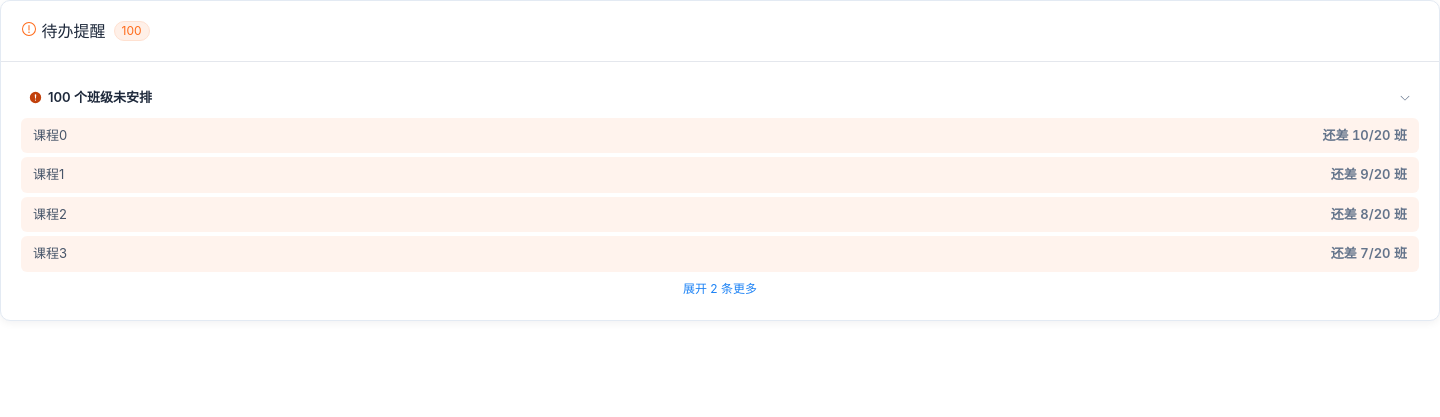
it: AlertCard (首页待办提醒卡) › 明细 ＞4 条时显示前 4 条和展开按钮，点击后显示剩余项并可收起
The image size is (1440, 417).
Expected: the text "课程4" is not shown
Expected: the text "课程5" is not shown
Note: 点击展开后显示全部
Click the button with class "alert-toggle" at (720, 288), box [683,280,757,296]
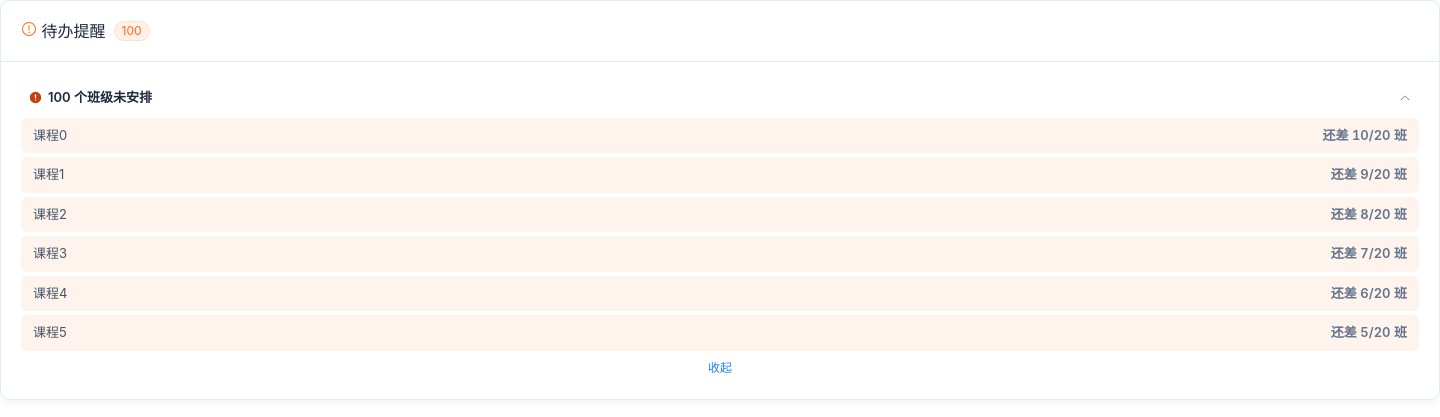
Now the text "课程4" is shown, box [33,284,67,300]
Now the text "课程5" is shown, box [33,324,67,340]
Now the button with class "alert-toggle" reads "收起"
Click the button with class "alert-toggle" at (720, 367), box [708,360,732,374]
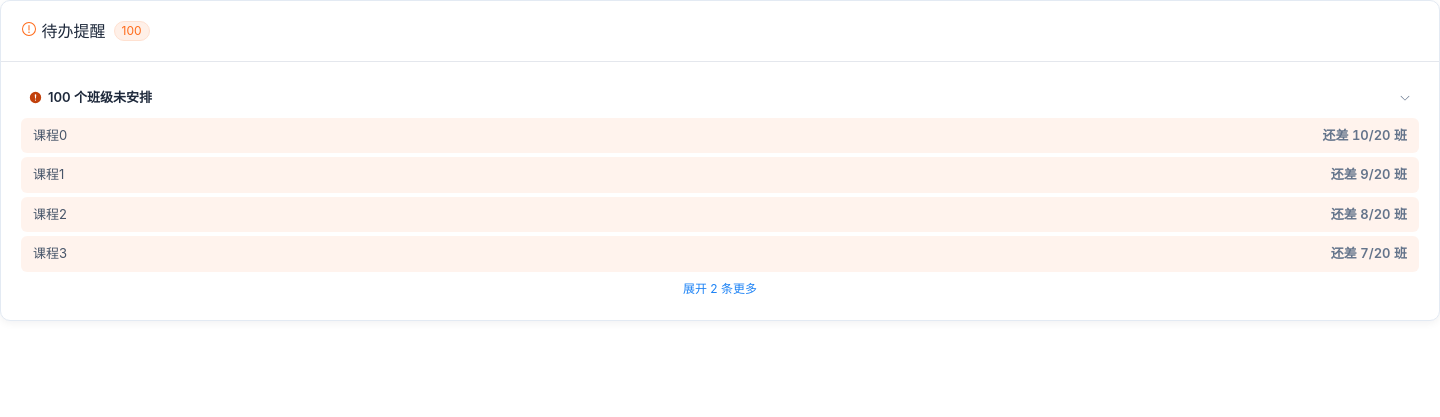
Now the text "课程4" is gone
Now the button with class "alert-toggle" reads "展开 2 条更多", box [683,280,757,296]
